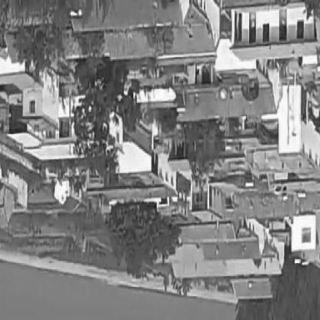other: (61, 2, 188, 40)
